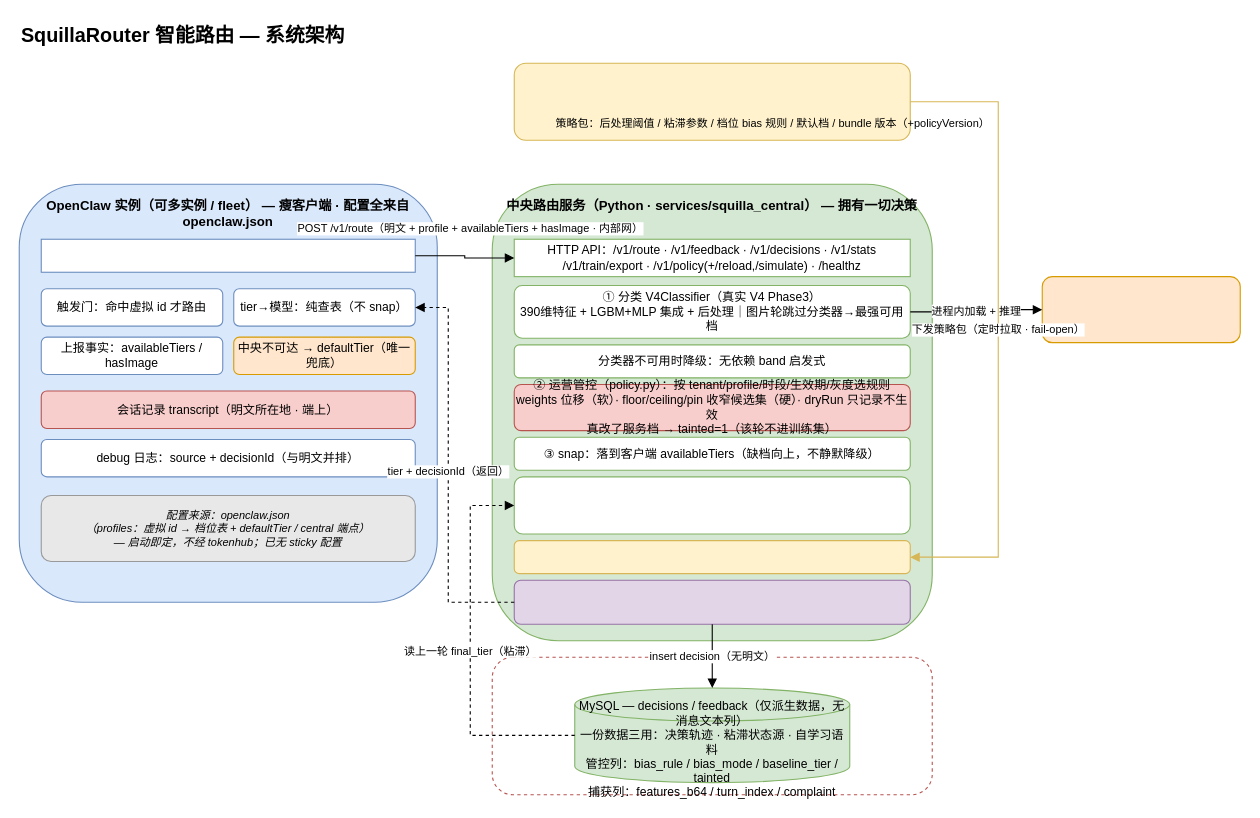
Image size: 1260x818. Some labels were removed from this diagram. The shapes that lost their labels are listed below. From the top down, each one's box as (x1, y1, x2, y2) in pixels, then its label:
(513, 62, 910, 140): tokenhub（内部中控 · 配置下发） 只向中央下发版本化策略配置
(40, 238, 415, 272): squilla-router 插件（before_model_resolve）— 虚拟 id 触发 · 纯透传 · 零判定
(1041, 276, 1240, 343): V4 模型 bundle（Git LFS） BGE-ONNX(CPU) + LGBM + MLP + PCA/TFIDF
(513, 476, 910, 534): ④ KV-cache 粘滞：短续轮不低于上一轮档位 上一轮档位 = 决策库最新 final_tier（多实例/重启均正确） taint 沿粘滞链传播
(513, 540, 910, 574): PolicySource：单槽快照 · 后台按 mtime 热加载 · fail-open（坏配置保留 last-known-good）
(513, 579, 910, 624): 响应（通用协议）：{ tier=实际服务档, decisionId, confidence, policyVersion, meta }
(491, 656, 932, 795): 隐私边界：库内无明文
